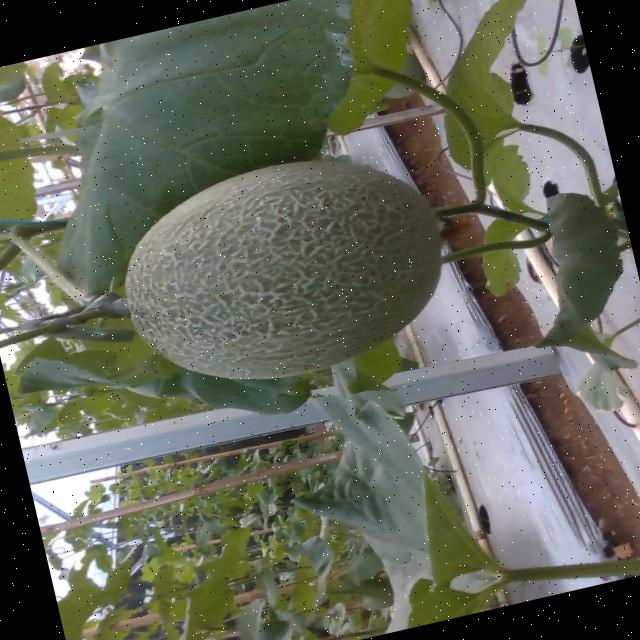melon: (124, 157, 442, 376)
